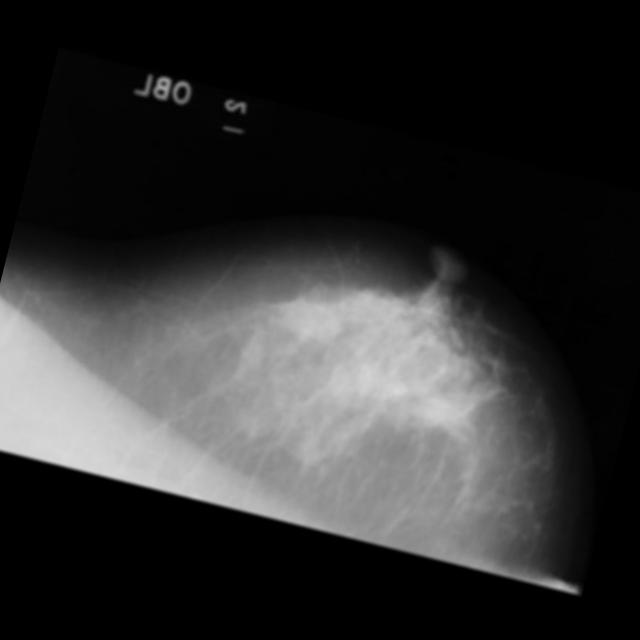ARCH: (398, 352, 518, 472)
